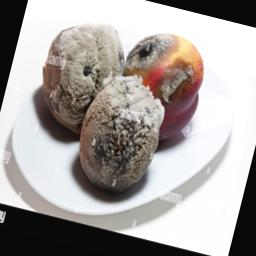Banana Unripe: (27, 10, 134, 130)
